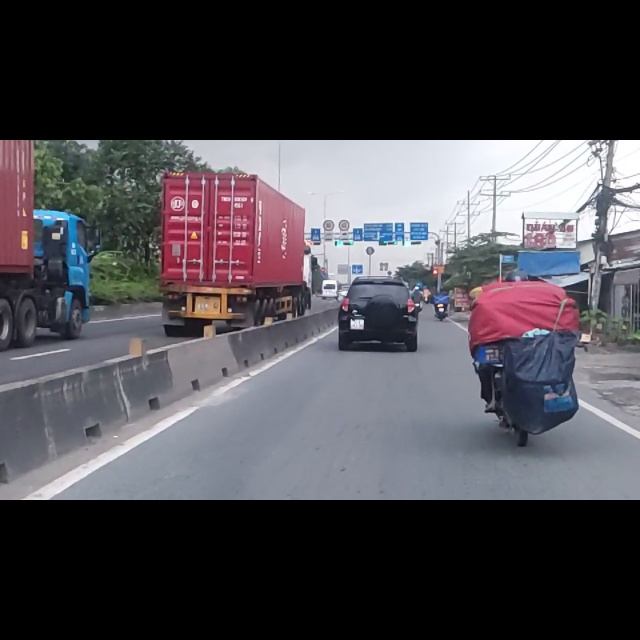bien_nguy_hiem: (323, 142, 335, 161), (339, 142, 349, 161)
